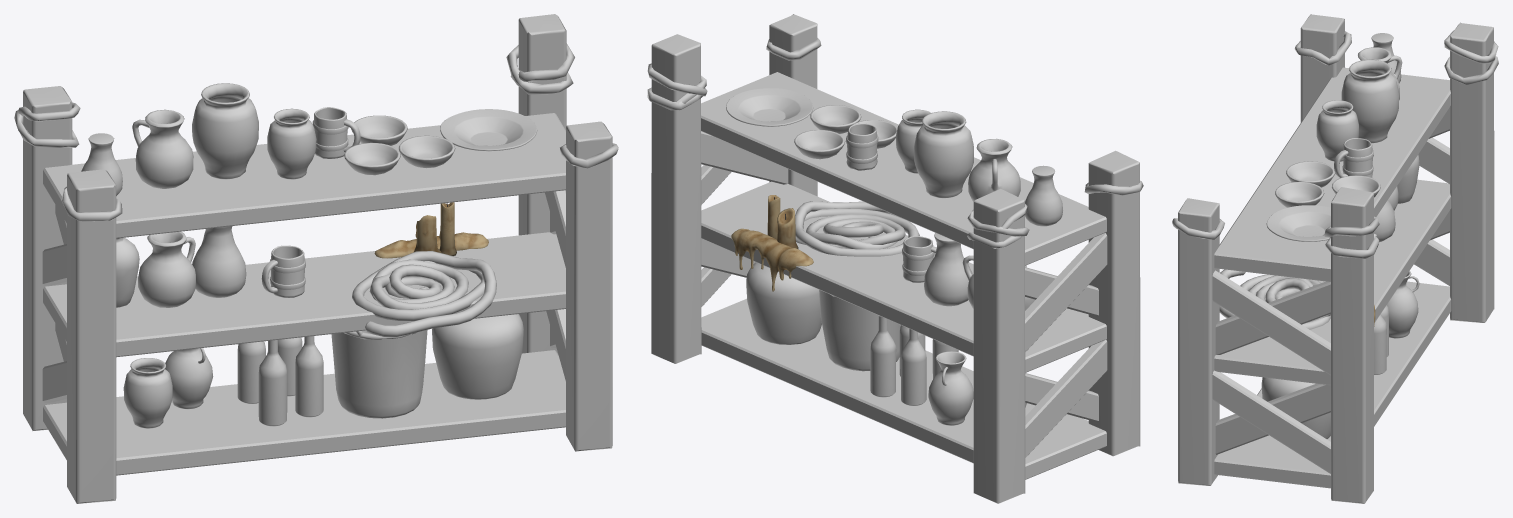
The model's file is SM_Shelf.fbx.
3 renders of one model, left to right at view 1: azimuth 30°, elevation 25°; view 2: azimuth 150°, elevation 25°; view 3: azimuth 270°, elevation 25°, orthographic. The views are drawn at different scales.
Visible parts, largest first — view 1: SM_Shelf_LOD0; view 2: SM_Shelf_LOD0; view 3: SM_Shelf_LOD0.
Part boxes in pixels (x1,y1,x2,y2): SM_Shelf_LOD0: [14, 14, 618, 503]; SM_Shelf_LOD0: [647, 14, 1143, 503]; SM_Shelf_LOD0: [1172, 14, 1498, 503].
Bounding box in the file's own units: 239 × 149 × 151.
Materials: 4 (1 with a texture image).
